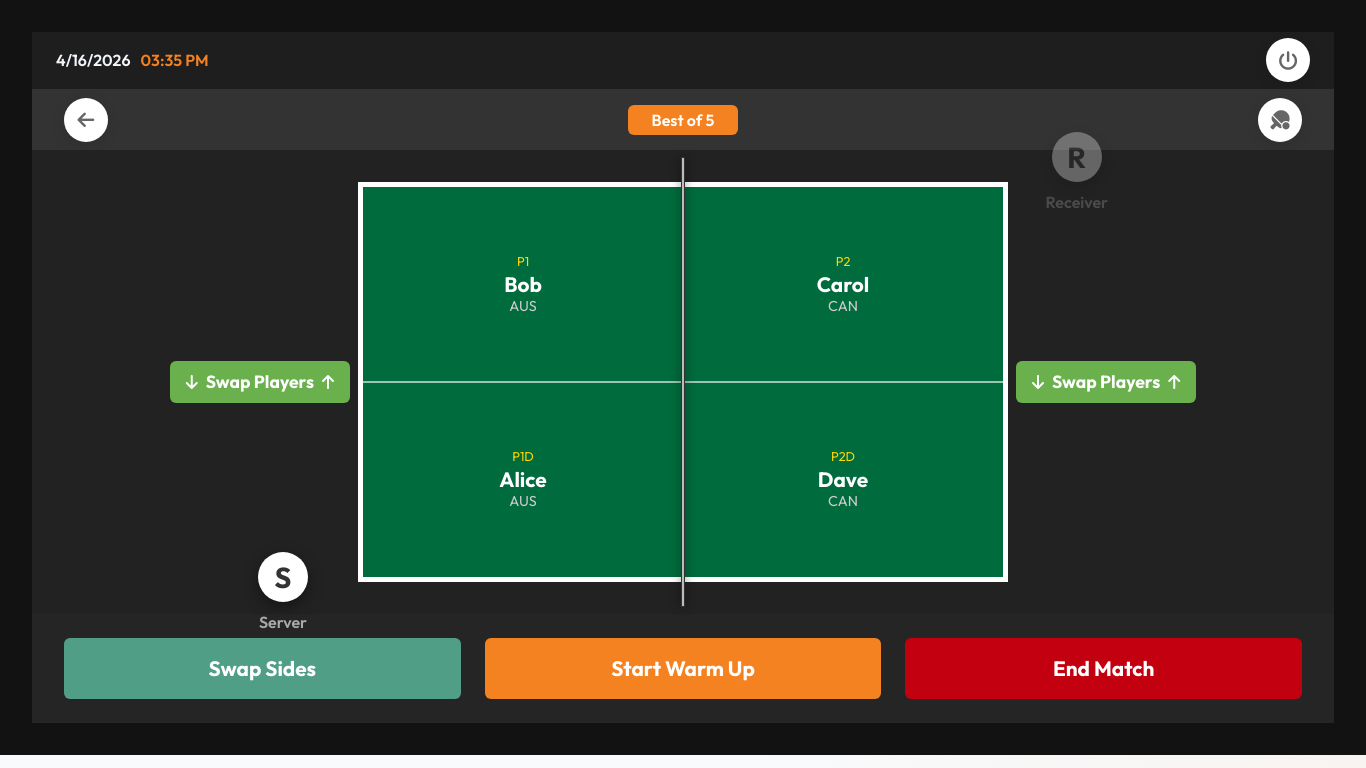
Test: SetupView — doubles layout › Swap Players right button swaps TR and BR player names
Expected: the element with class "doubles-tr" shows "Carol", top-left (817, 271), bottom-right (869, 297)
Expected: the element with class "doubles-br" shows "Dave", top-left (818, 466), bottom-right (868, 492)
Click the button with class "swap-right-btn" at (1106, 382), box top-left (1016, 361), bottom-right (1196, 403)
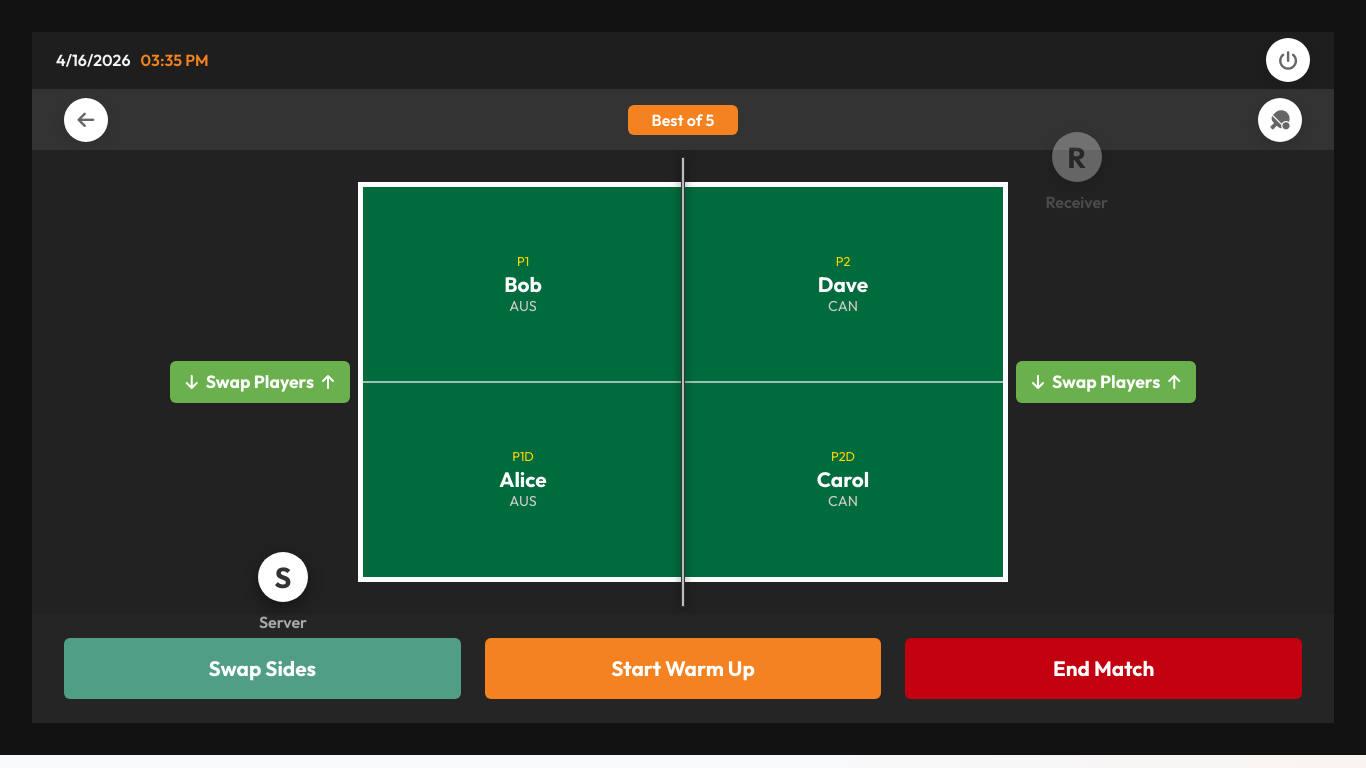
Now the element with class "doubles-tr" shows "Dave", box top-left (818, 271), bottom-right (868, 297)
Now the element with class "doubles-br" shows "Carol", box top-left (817, 466), bottom-right (869, 492)
